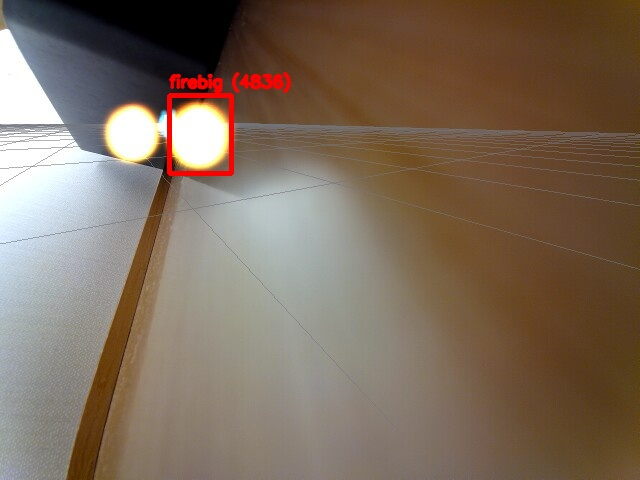firebig: (169, 95, 231, 173)
